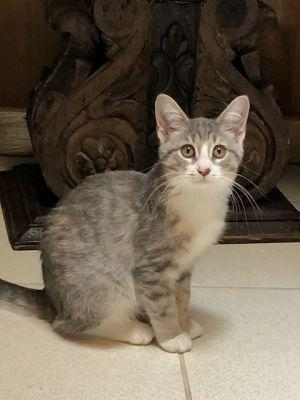bengal: (145, 89, 256, 197)
